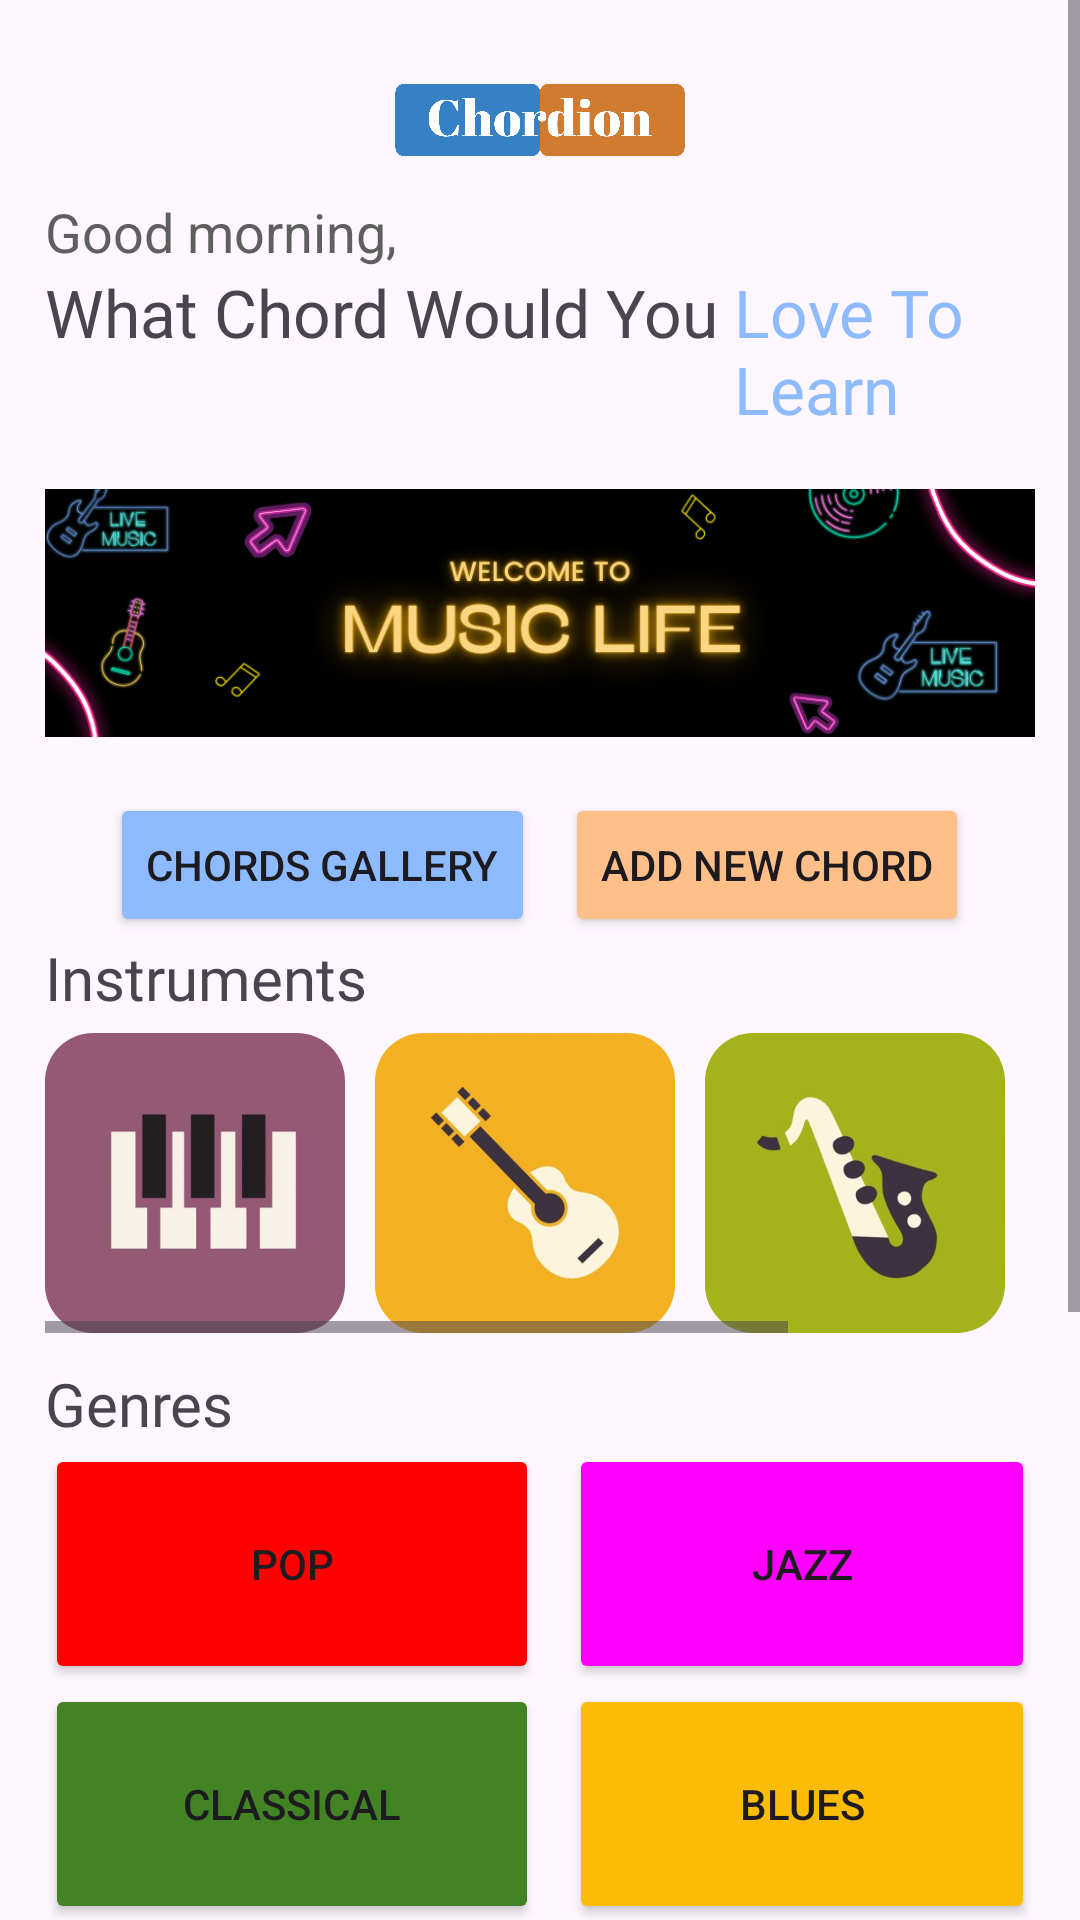

Point at icon controls on the screen. Image size 1080x1920, points as (x,y).
Guitar: (525,1183)
Piano: (195,1183)
